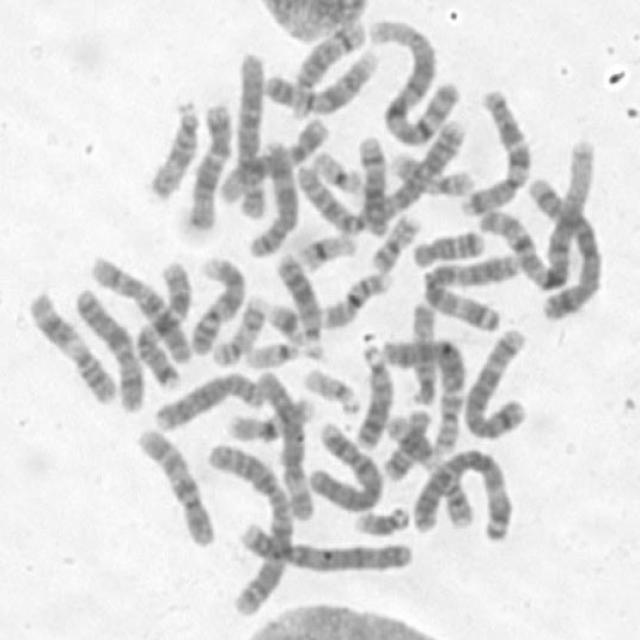A1: (471, 133, 598, 295), (364, 13, 463, 147)
A2: (294, 112, 469, 236), (201, 436, 294, 618)
A3: (407, 443, 514, 543), (418, 246, 522, 334)
B4: (234, 516, 416, 576), (306, 415, 385, 512)
B5: (522, 171, 608, 322), (458, 322, 531, 442)
C10: (87, 252, 195, 365), (132, 420, 218, 550)
C11: (22, 285, 120, 406), (383, 410, 476, 530)
C12: (212, 111, 332, 207), (182, 97, 234, 234)
C6: (250, 362, 316, 524), (232, 46, 272, 221)
C7: (457, 83, 535, 217), (129, 253, 195, 390)
C8: (150, 367, 266, 433), (246, 136, 299, 260)
C9: (258, 44, 383, 118), (186, 253, 248, 355)
D13: (348, 335, 395, 451), (272, 247, 324, 350)
D14: (281, 14, 367, 120), (355, 129, 391, 235)
D15: (144, 94, 202, 202), (404, 295, 438, 408)
E16: (316, 264, 395, 330), (224, 391, 318, 443)
E17: (208, 290, 270, 368), (387, 147, 476, 198)
E18: (379, 404, 434, 483), (408, 224, 487, 268)
F19: (292, 226, 360, 272), (309, 144, 367, 196)
F20: (365, 208, 422, 274), (427, 386, 473, 452)
G21: (349, 499, 413, 538), (263, 296, 308, 345)
G22: (299, 362, 365, 415), (242, 334, 308, 370)
X: (72, 282, 147, 414), (380, 341, 468, 396)
